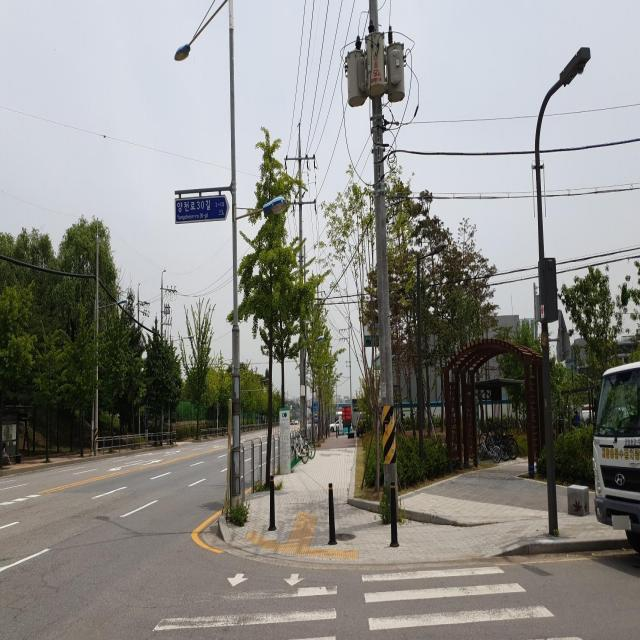횡단보도: (149, 564, 584, 640)
